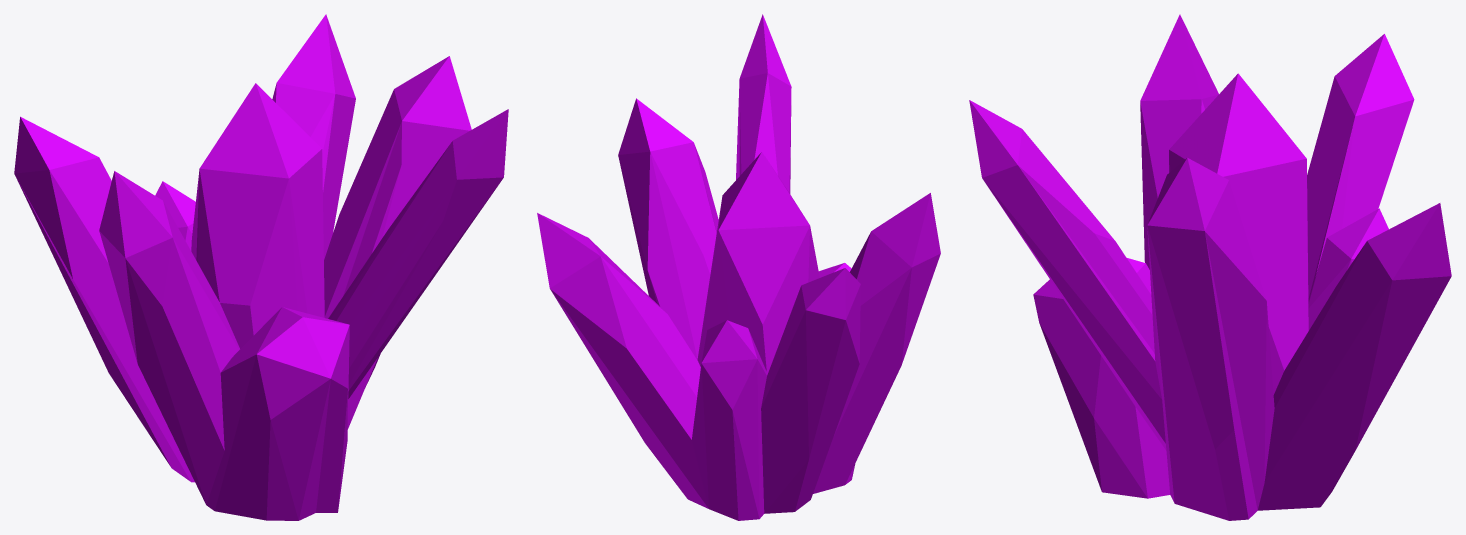
File: CrystalPink.fbx
3 views of the same model, side by side, from view 1: azimuth 30°, elevation 25°; view 2: azimuth 150°, elevation 25°; view 3: azimuth 270°, elevation 25° (orthographic). The views are drawn at different scales.
Parts seen in each view (by area): view 1: Cube.001; view 2: Cube.001; view 3: Cube.001.
Boxes of the visible parts, box(x1,y1,x2,y2) form: Cube.001: box(14, 14, 508, 520); Cube.001: box(537, 14, 940, 520); Cube.001: box(969, 14, 1451, 520).
Size of the model in its own units: 112 by 128 by 125.
